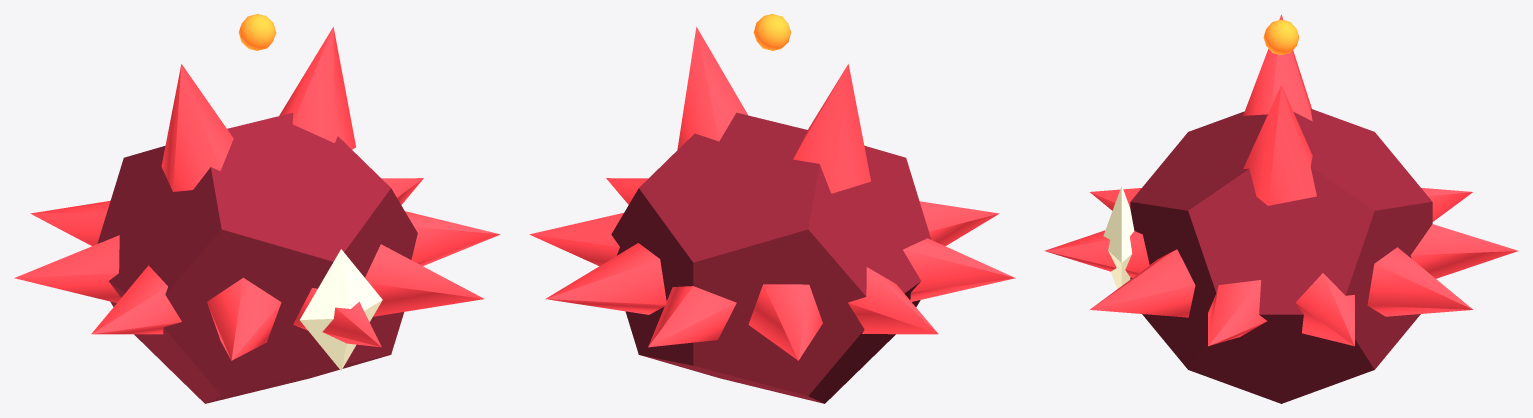
File: super.glb
3 renders of one model, left to right at view 1: azimuth 30°, elevation 25°; view 2: azimuth 150°, elevation 25°; view 3: azimuth 270°, elevation 25°, orthographic. The views are drawn at different scales.
Visible parts, largest first — view 1: solid scarlet faceted core, armoured fang (×8), red crown horn (×2), indicator, ember tip; view 2: solid scarlet faceted core, armoured fang (×8), red crown horn (×2), ember tip; view 3: solid scarlet faceted core, armoured fang (×8), red crown horn (×2), indicator, ember tip.
Boxes of the visible parts, box(x1,y1,x2,y2) form: solid scarlet faceted core: box(97, 113, 417, 403); armoured fang (×8): box(14, 178, 500, 360); red crown horn (×2): box(161, 27, 355, 191); indicator: box(300, 249, 382, 370); ember tip: box(238, 14, 276, 50); solid scarlet faceted core: box(611, 112, 930, 403); armoured fang (×8): box(529, 178, 1015, 360); red crown horn (×2): box(677, 27, 870, 193); ember tip: box(753, 14, 791, 50); solid scarlet faceted core: box(1130, 108, 1432, 403); armoured fang (×8): box(1044, 188, 1518, 346); red crown horn (×2): box(1243, 14, 1316, 205); indicator: box(1103, 186, 1134, 288); ember tip: box(1263, 19, 1299, 55).
Bounding box in the file's own units: 1.13 × 0.9906 × 1.19.
